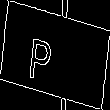P_N: (41, 27, 69, 83)
